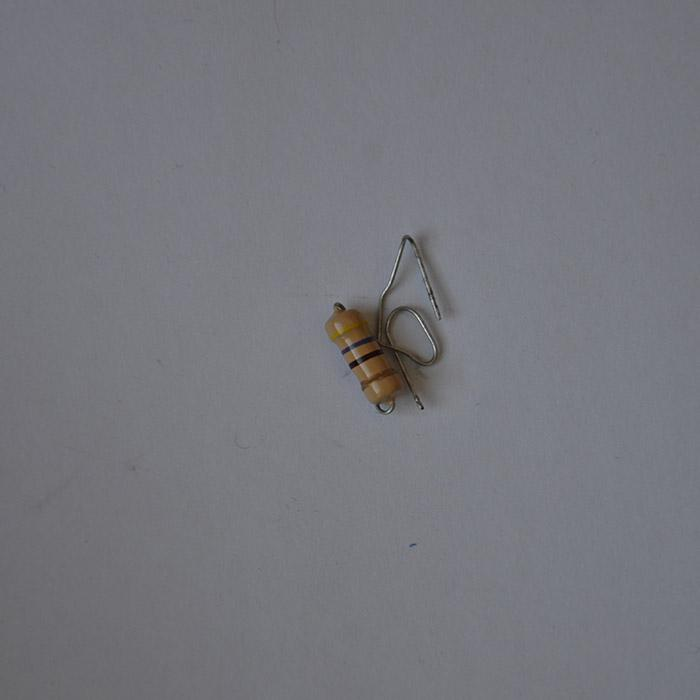resistor: (325, 304, 403, 407)
